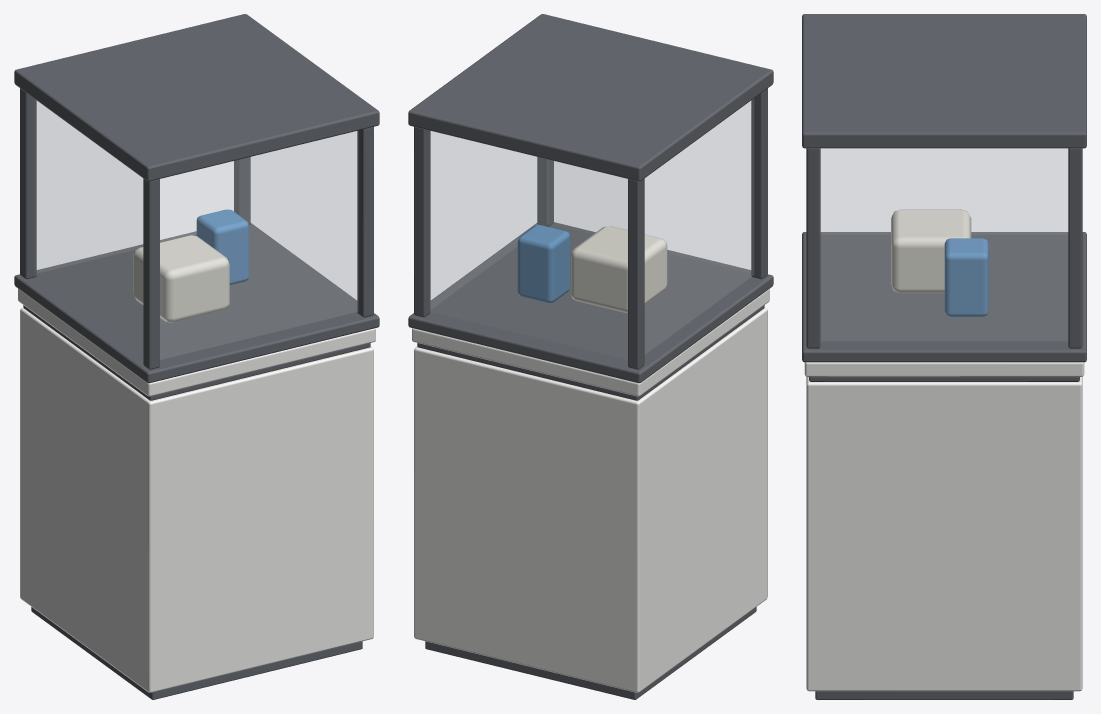
The model's file is art-gallery-and-exhibition-rooms-vitrine-case-ca6b50af.glb.
3 views of the same model, side by side, from view 1: azimuth 30°, elevation 25°; view 2: azimuth 150°, elevation 25°; view 3: azimuth 270°, elevation 25° (orthographic). The views are drawn at different scales.
Parts seen in each view (by area): view 1: vitrine-case, lid/ink; view 2: vitrine-case, lid/ink; view 3: vitrine-case, lid/ink.
Part boxes in pixels (x1,y1,x2,y2): vitrine-case: (14, 88, 379, 699); lid/ink: (14, 14, 379, 181); vitrine-case: (408, 88, 773, 699); lid/ink: (408, 14, 773, 181); vitrine-case: (802, 148, 1086, 699); lid/ink: (802, 14, 1086, 148).
Bounding box in the file's own units: 0.64 × 1.42 × 0.64.
